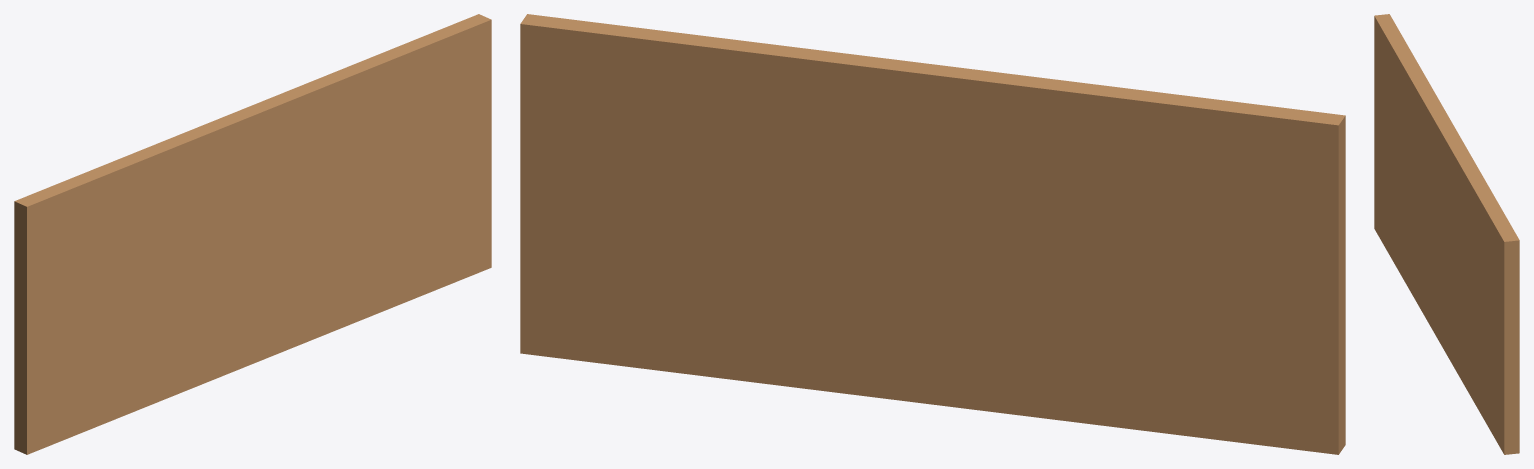
The model's file is cartel_ciudad_tabla_lev5.glb.
The picture shows the model from 3 angles, left to right: view 1: azimuth 30°, elevation 25°; view 2: azimuth 150°, elevation 25°; view 3: azimuth 270°, elevation 25°; orthographic projection. The views are drawn at different scales.
Parts seen in each view (by area): view 1: cartel_ciudad_tabla_lev5; view 2: cartel_ciudad_tabla_lev5; view 3: cartel_ciudad_tabla_lev5.
Part boxes in pixels (x1,y1,x2,y2): cartel_ciudad_tabla_lev5: [14, 14, 491, 454]; cartel_ciudad_tabla_lev5: [520, 14, 1345, 454]; cartel_ciudad_tabla_lev5: [1374, 14, 1519, 454].
Size of the model in its own units: 6.96 by 3.03 by 1.88.
